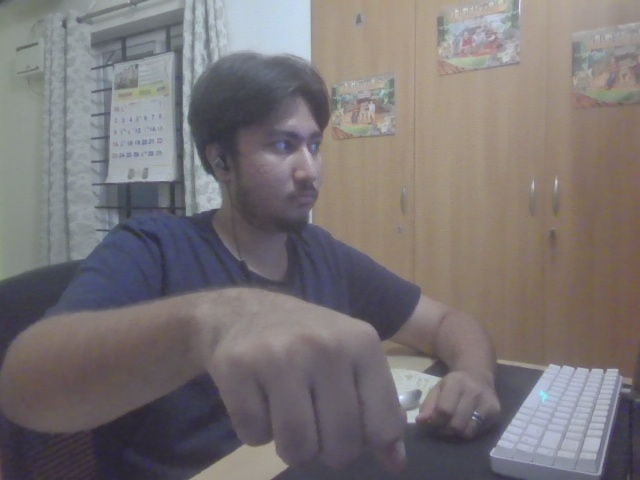yes: (197, 284, 418, 475)
